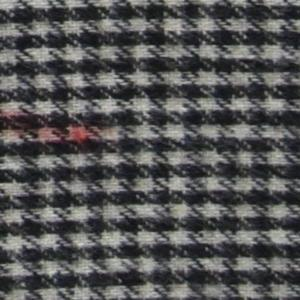Stain: (1, 107, 115, 158)
